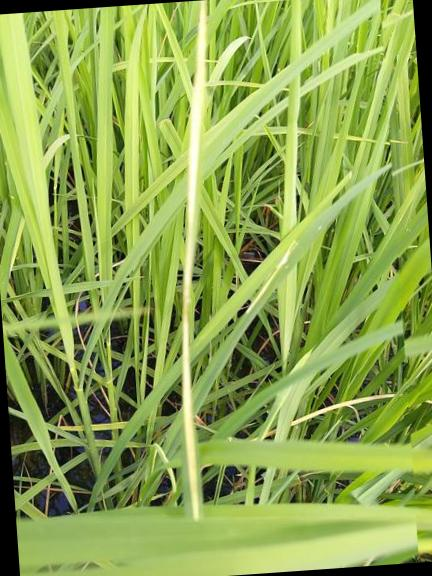Leaf Blight: (182, 0, 208, 522)
